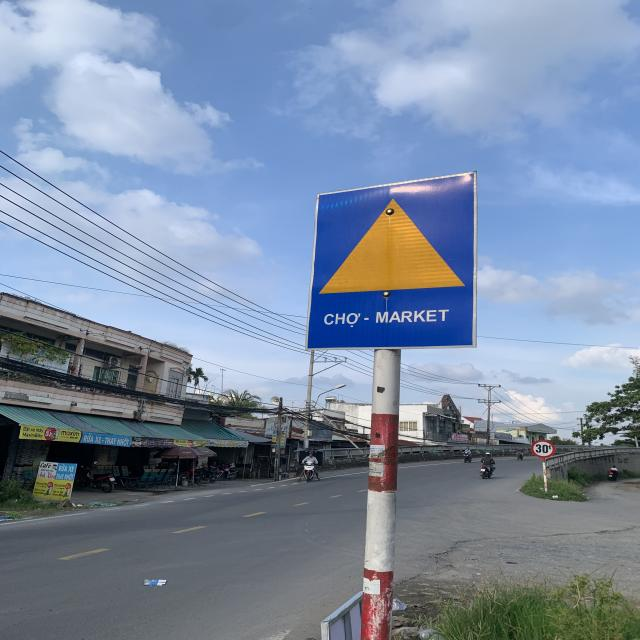Cho_Quay_Xe: (305, 173, 479, 348)
